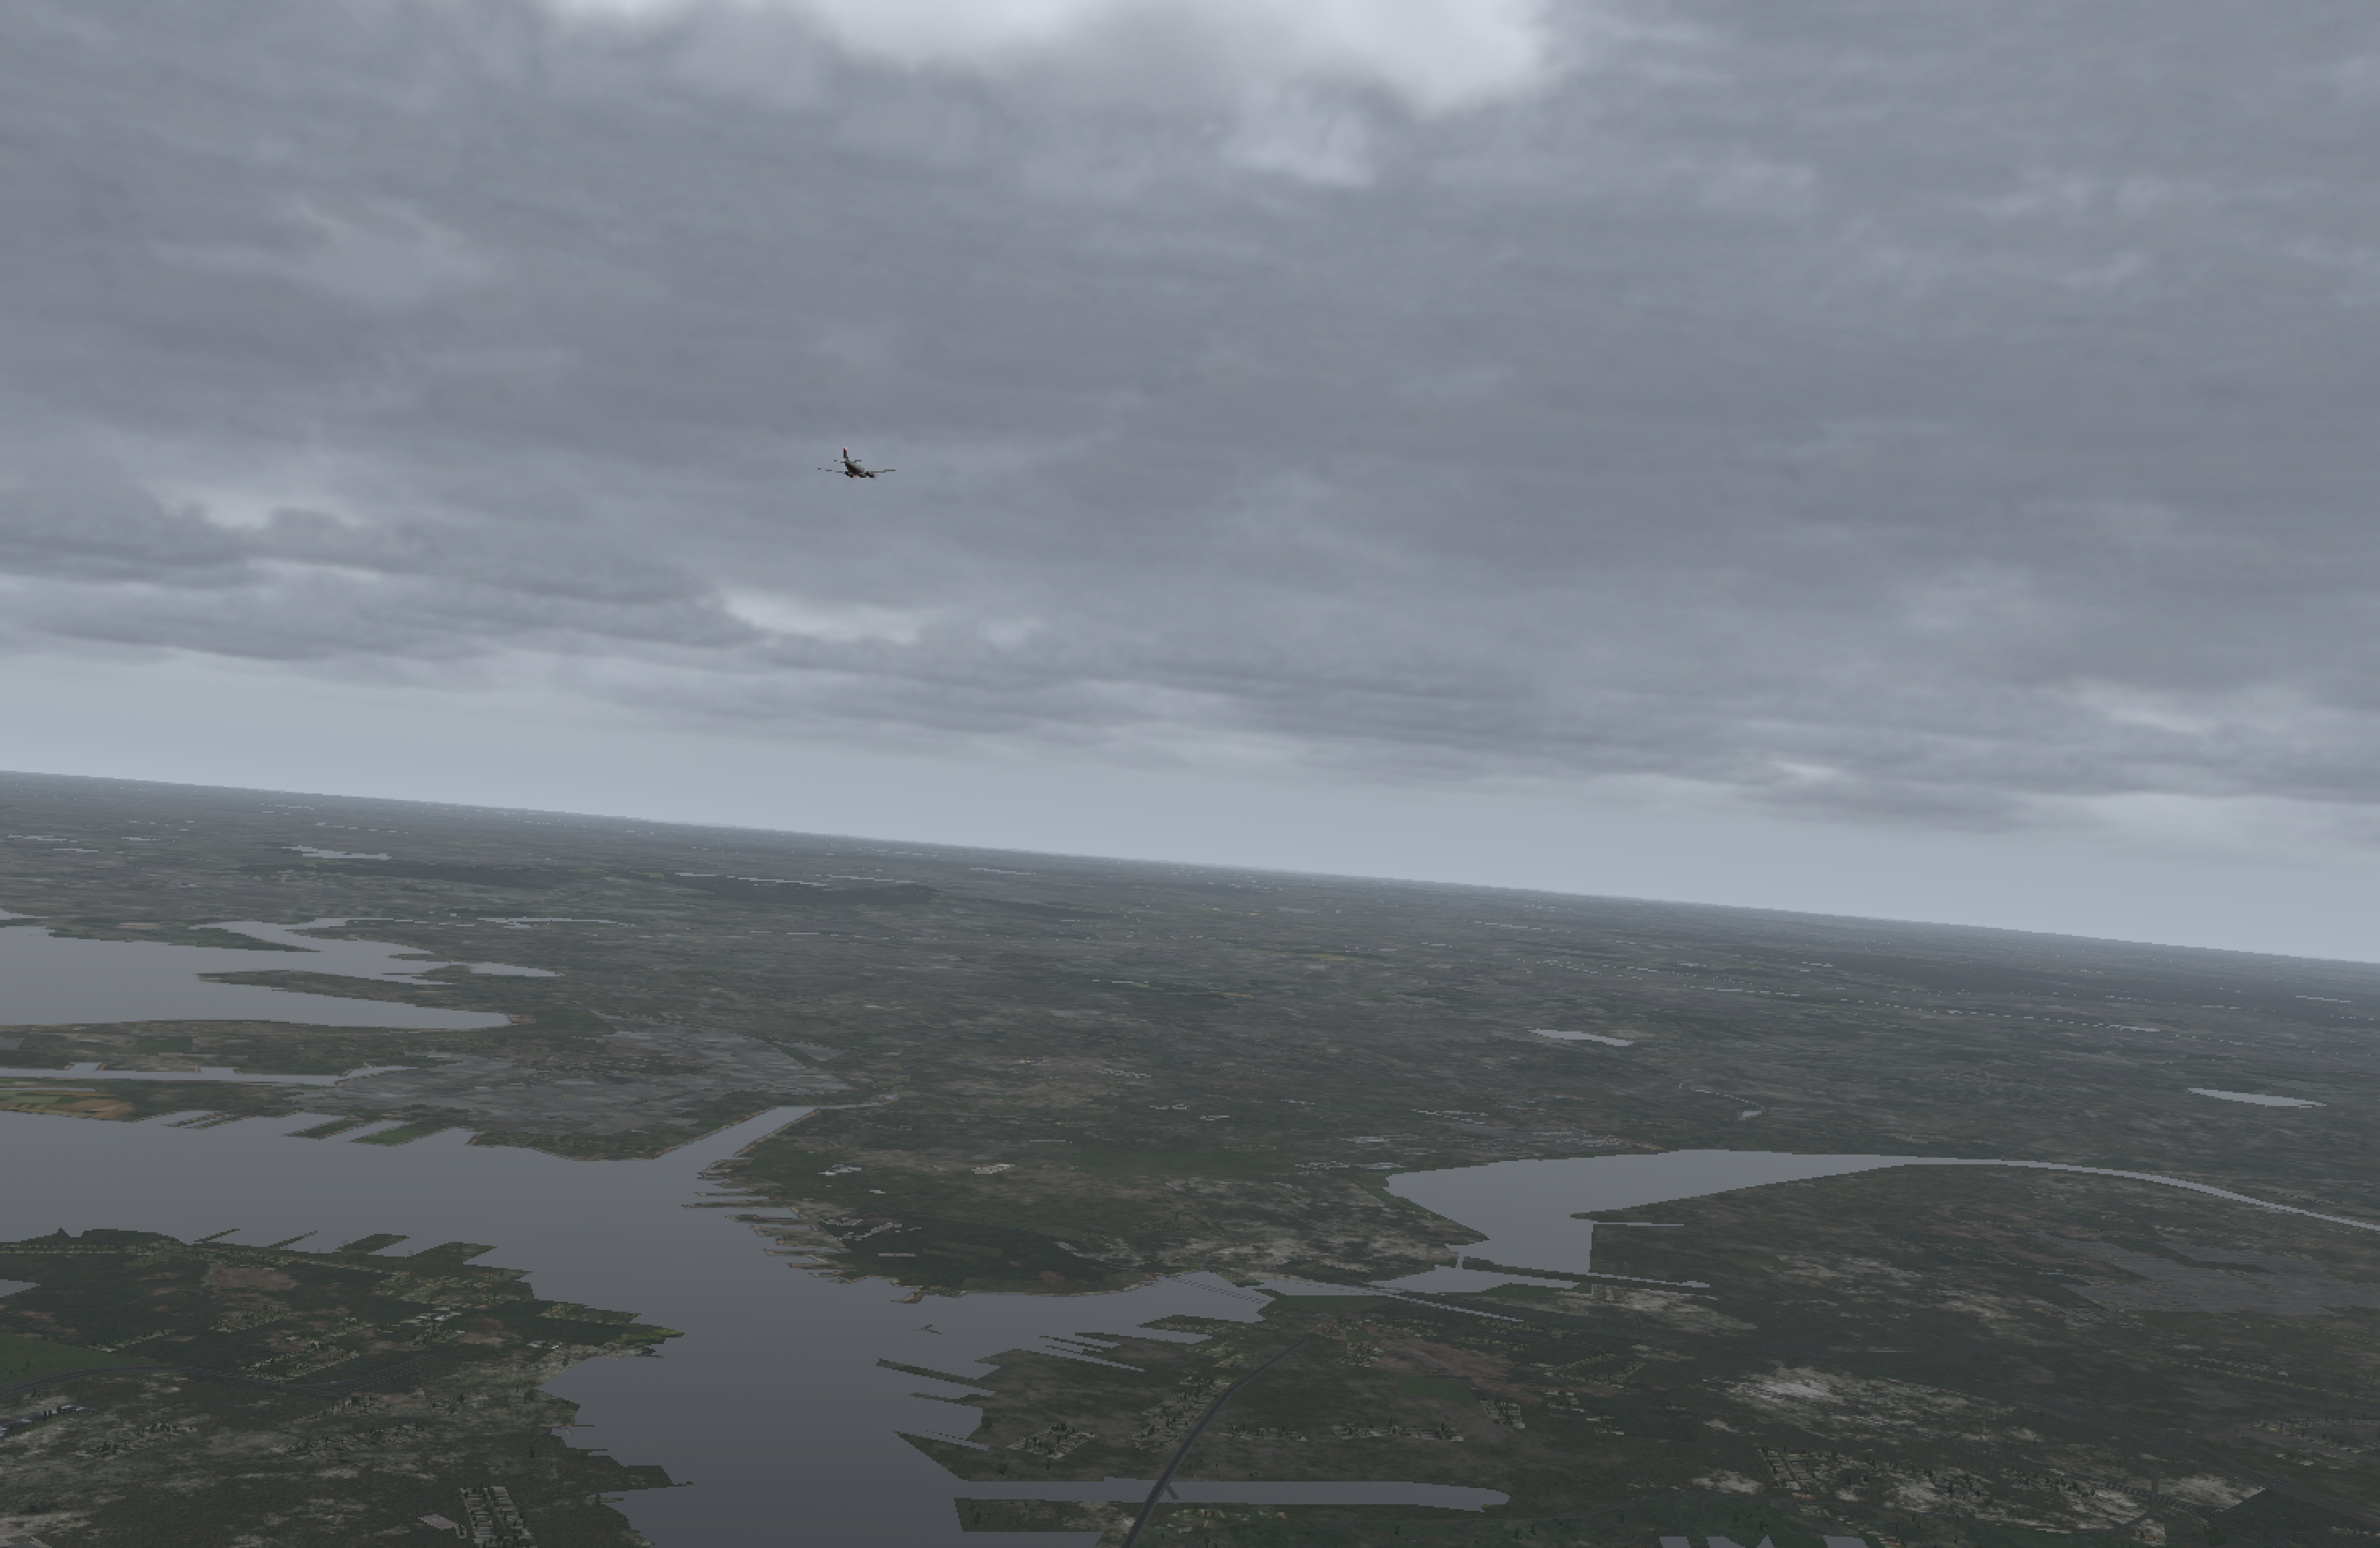aircraft: (815, 460, 900, 491)
